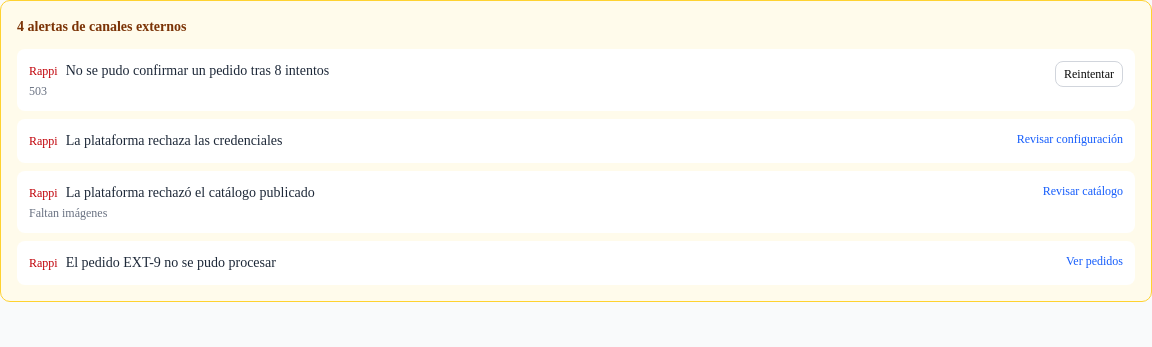
Test: AlertasCanales › ALC-04: error del reintento visible
Click the button "Reintentar". click: (1089, 74)
box: [1055, 61, 1123, 87]
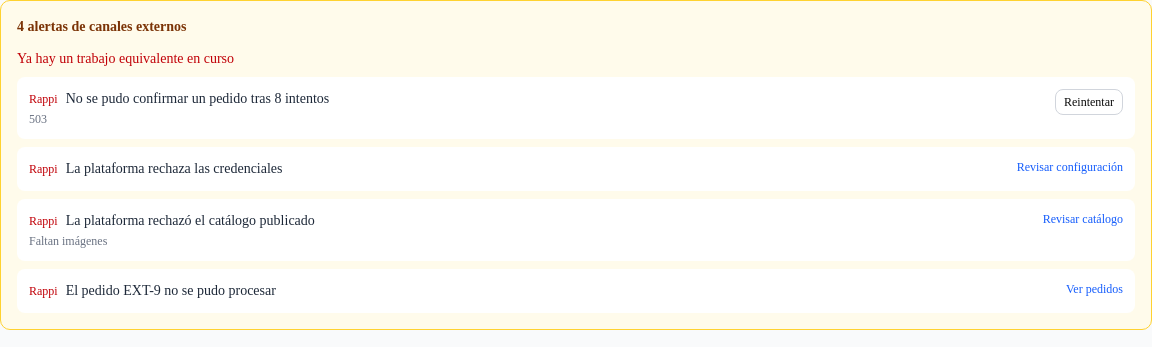
Check: the message reads "Ya hay un trabajo equivalente en curso", box [17, 51, 234, 66]
